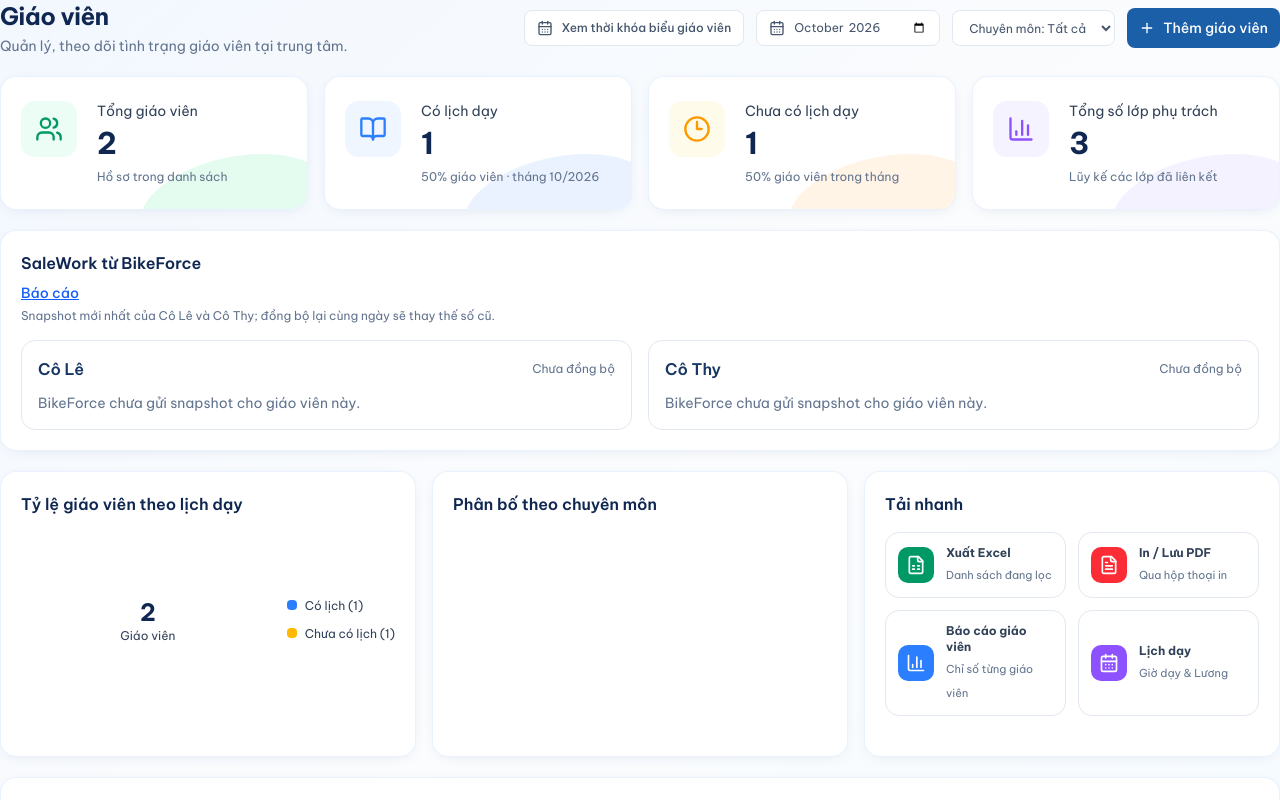
Test: B2C teacher dashboard › combines specialization and contact search and handles empty results
The width and height of the screenshot is (1280, 800).
Select "Tiếng Anh" in the dropdown named "Lọc chuyên môn" at (1034, 28), box [952,10,1115,46]
(page scrolled)
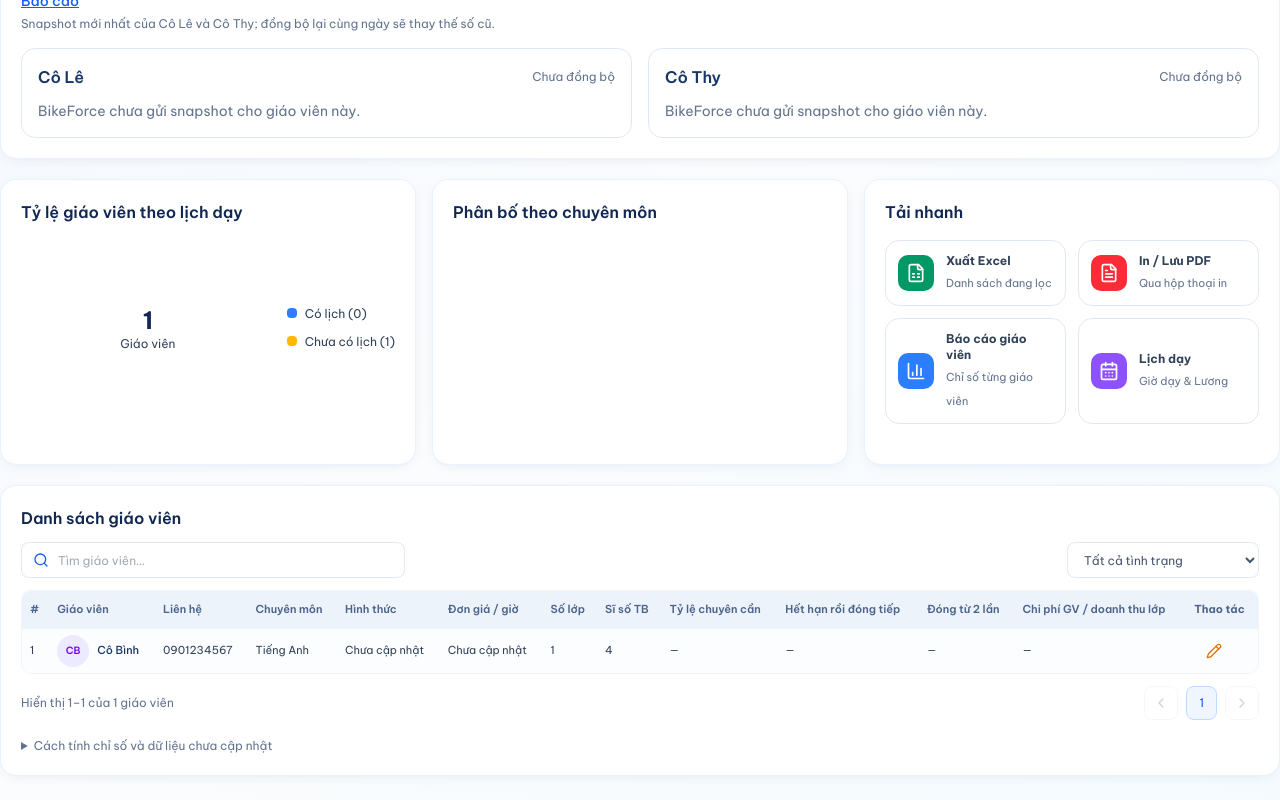
Type "0901234567" into the field labelled "Tìm giáo viên" at (213, 560), box [21,542,405,578]
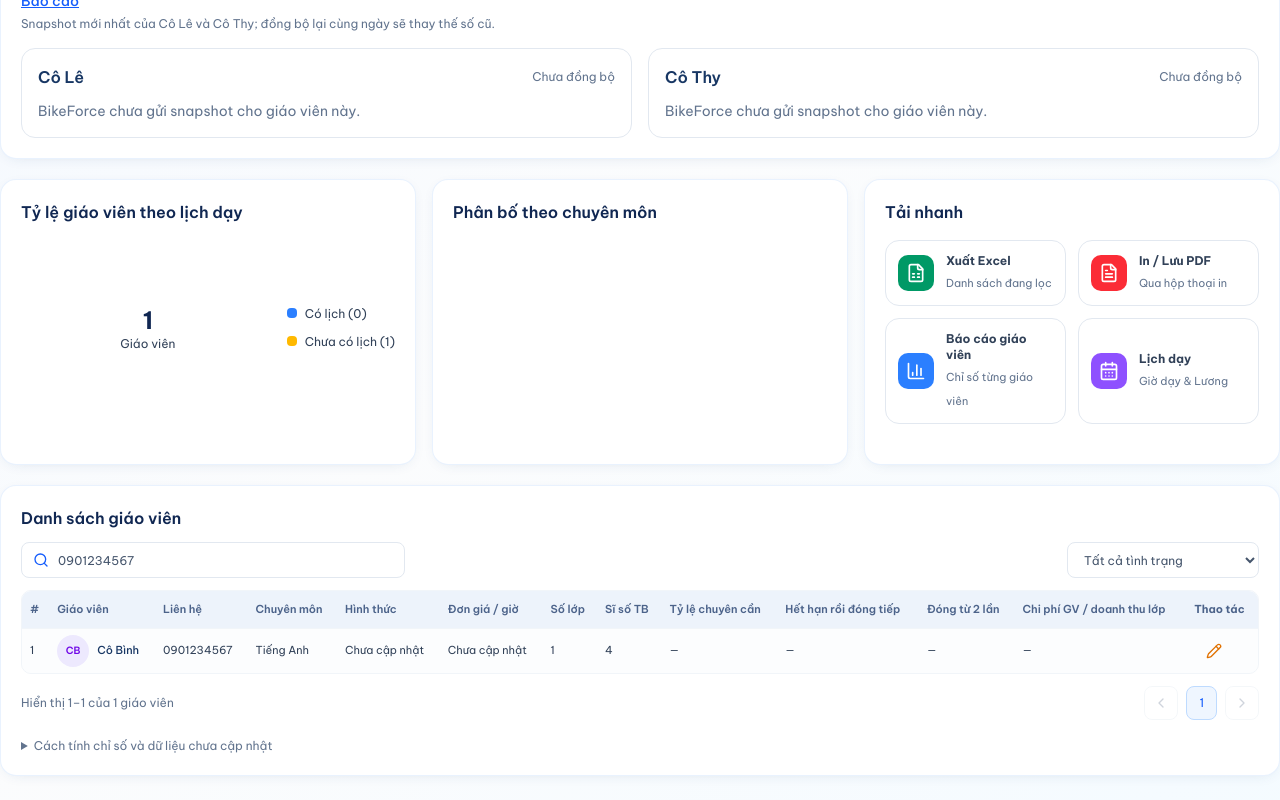
Expected: the text "Cô Bình" is shown, [97,642,139,659]
Replace the text in the field named "Tìm giáo viên" with "không có" at (213, 560), box [21,542,405,578]
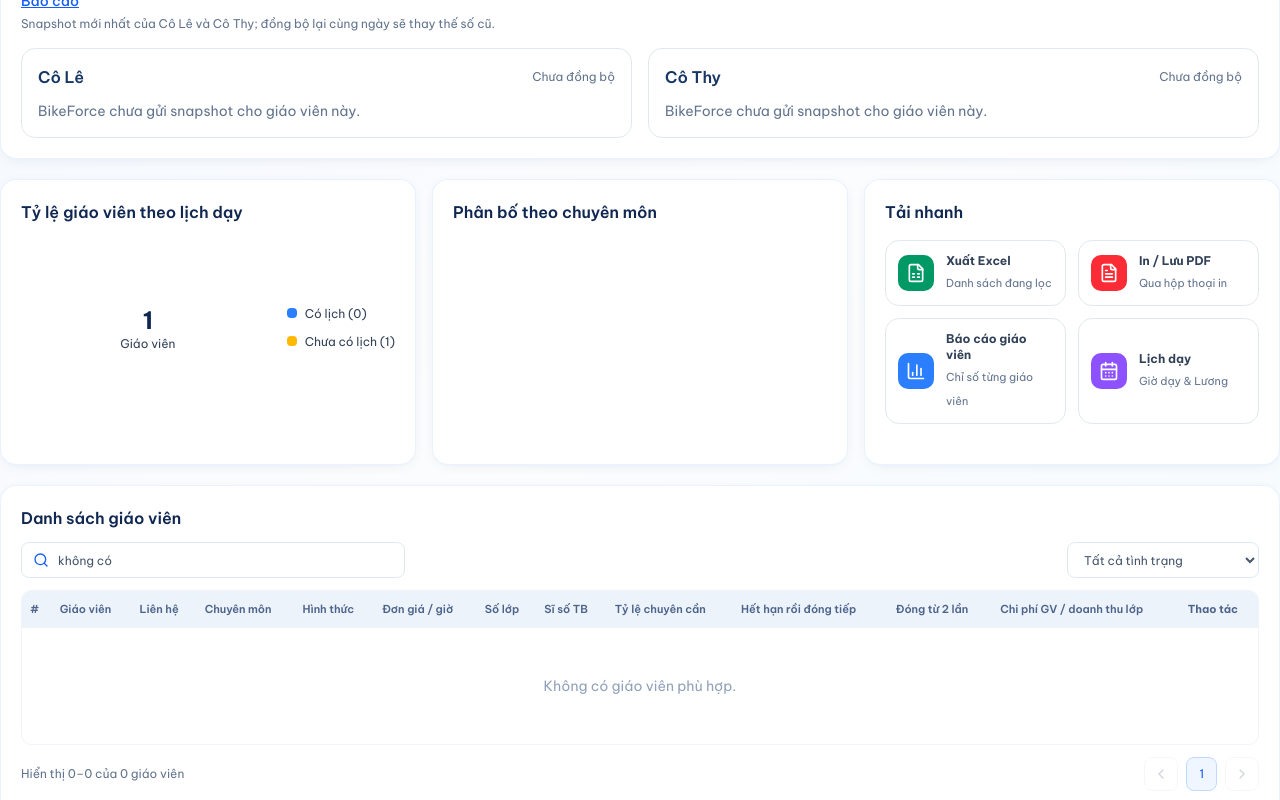
Expected: the text "Không có giáo viên phù hợp." is shown, [22,628,1258,744]
